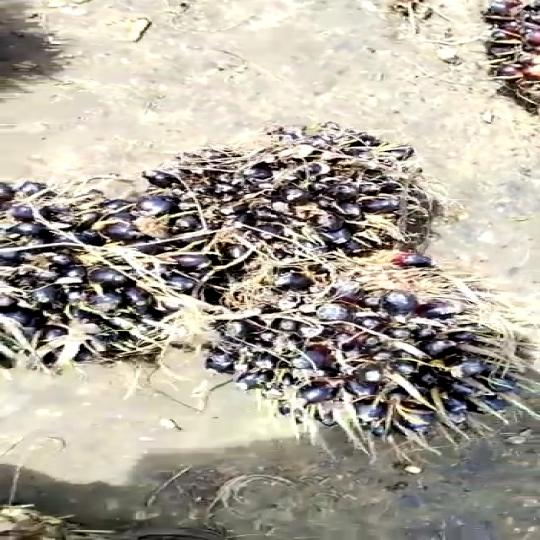mentah: (209, 277, 538, 452), (0, 182, 270, 366), (151, 121, 470, 249)
